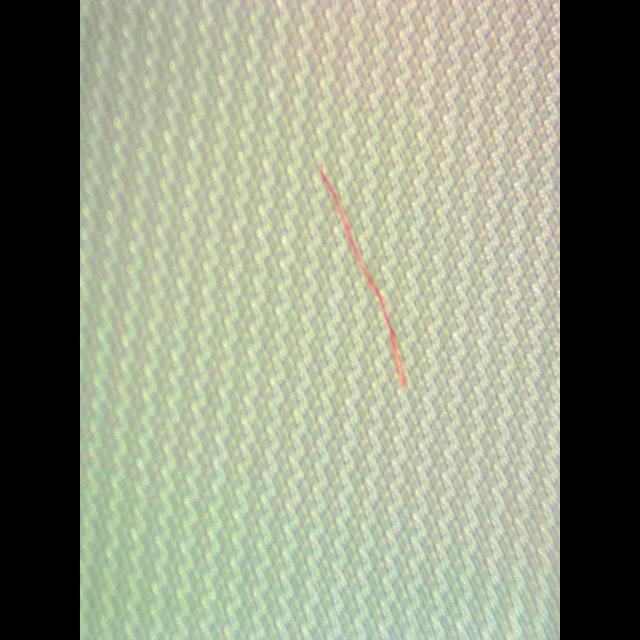Fibre: (315, 158, 411, 400)
